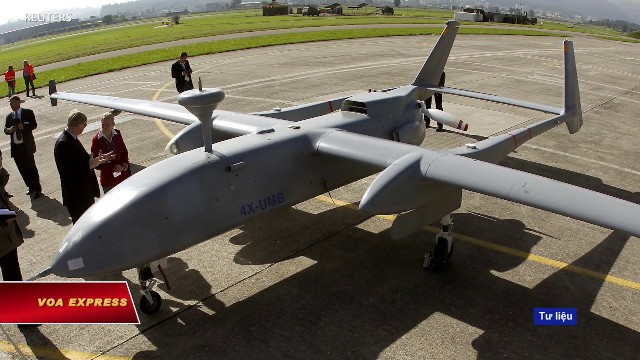maybay_khongnguoilai: (28, 74, 640, 293)
